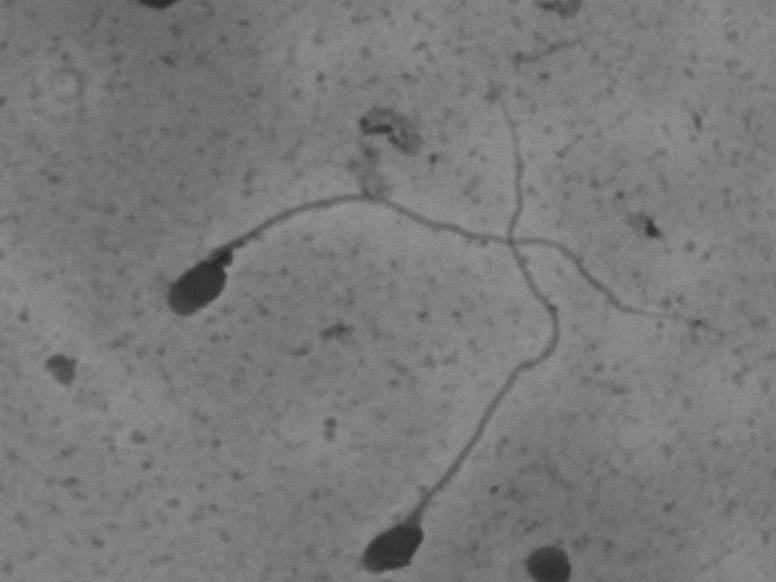Abnormal: (108, 133, 761, 363), (345, 87, 580, 579)
